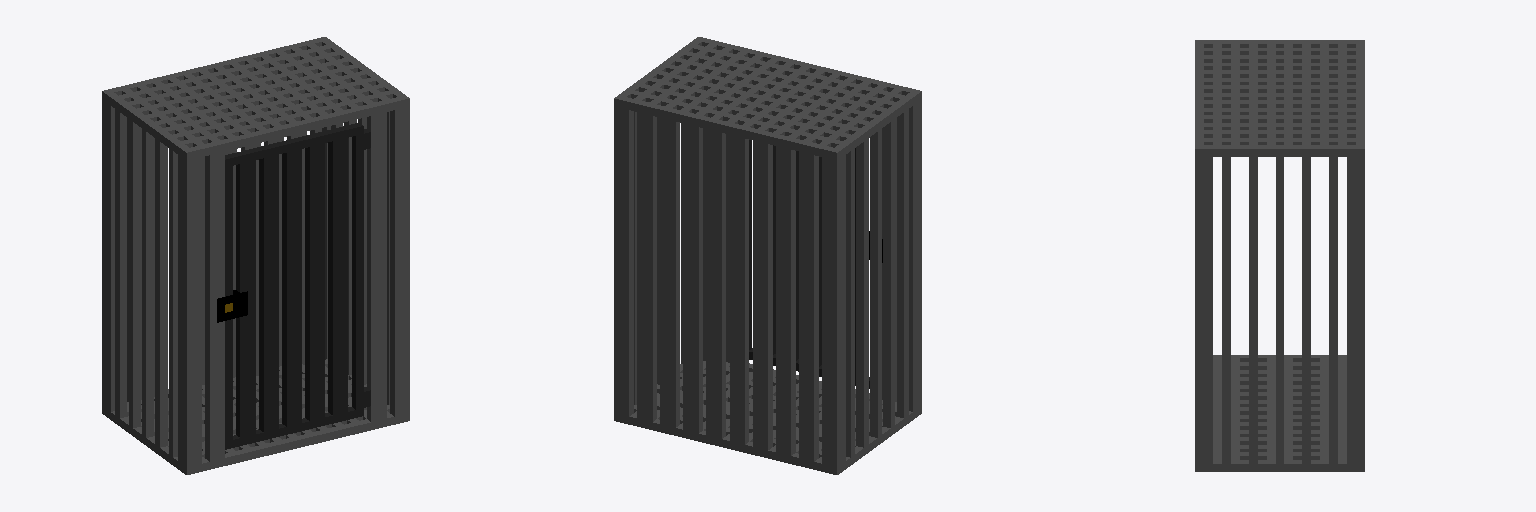
3 views of the same model, side by side, from view 1: azimuth 30°, elevation 25°; view 2: azimuth 150°, elevation 25°; view 3: azimuth 270°, elevation 25° (orthographic).
Size of the model in its own units: 29 by 40 by 19.
Materials: 1 (1 with a texture image).